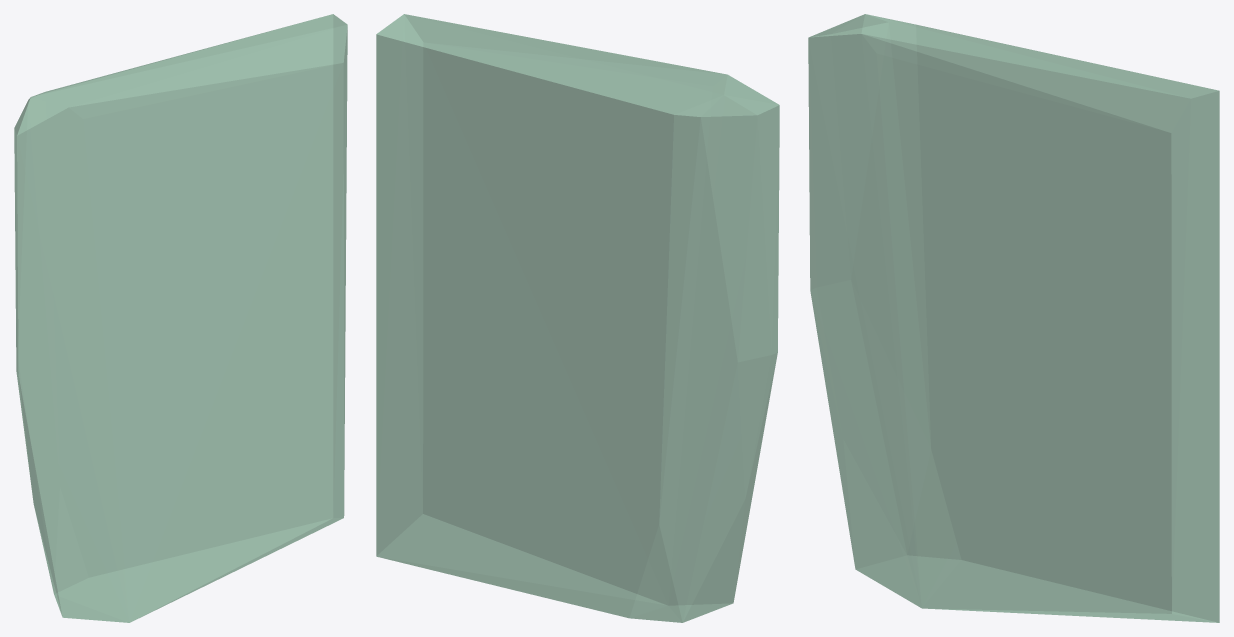
3 views of the same model, side by side, from view 1: azimuth 30°, elevation 25°; view 2: azimuth 150°, elevation 25°; view 3: azimuth 330°, elevation 25° (orthographic). The views are drawn at different scales.
Visible parts, largest first — view 1: Shape_IndexedFaceSet.018_Shape_IndexedFaceSet.7504; view 2: Shape_IndexedFaceSet.018_Shape_IndexedFaceSet.7504; view 3: Shape_IndexedFaceSet.018_Shape_IndexedFaceSet.7504.
Part boxes in pixels (bbox=[...]): Shape_IndexedFaceSet.018_Shape_IndexedFaceSet.7504: bbox=[14, 14, 347, 622]; Shape_IndexedFaceSet.018_Shape_IndexedFaceSet.7504: bbox=[376, 14, 779, 622]; Shape_IndexedFaceSet.018_Shape_IndexedFaceSet.7504: bbox=[808, 14, 1219, 622].
Bounding box in the file's own units: 0.3625 × 0.5187 × 0.0697.
